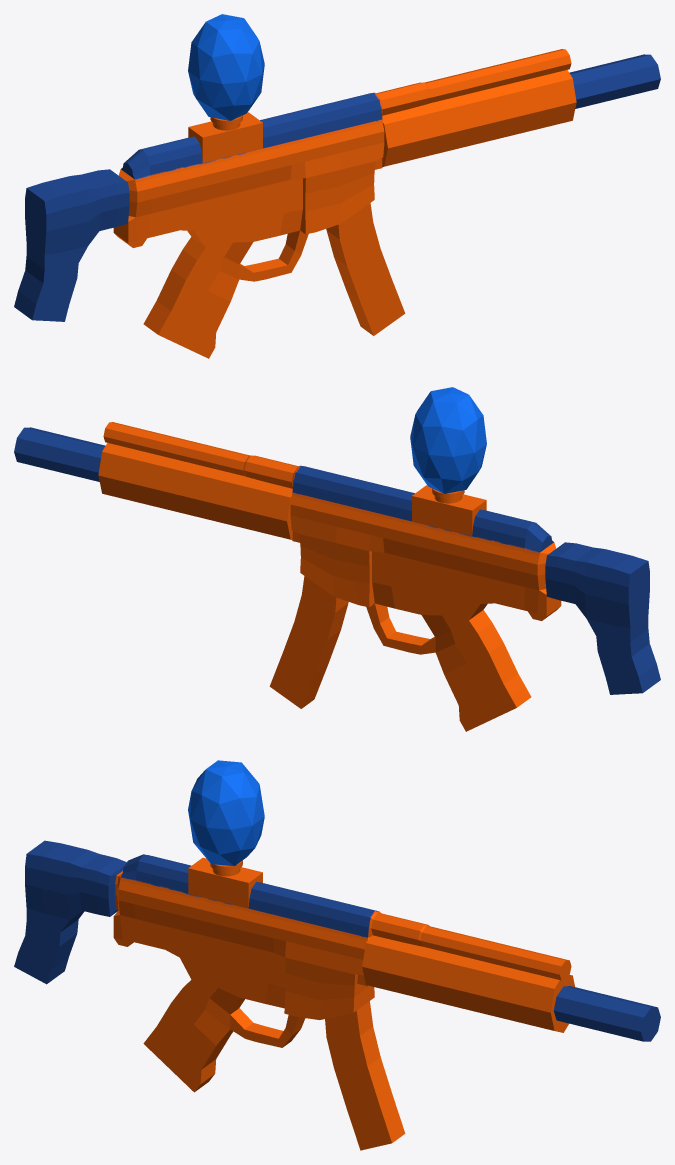
3 views of the same model, one above another, from view 1: azimuth 30°, elevation 25°; view 2: azimuth 150°, elevation 25°; view 3: azimuth 330°, elevation 25° (orthographic).
Parts seen in each view (by area): view 1: MP5, Icosphere; view 2: MP5, Icosphere; view 3: MP5, Icosphere.
Part boxes in pixels (x1,y1,x2,y2): MP5: [14, 49, 660, 358]; Icosphere: [188, 14, 264, 120]; MP5: [14, 422, 660, 731]; Icosphere: [410, 387, 486, 493]; MP5: [14, 840, 660, 1150]; Icosphere: [188, 760, 264, 866].
Bounding box in the file's own units: 399 × 209 × 43.26.
Materials: 2 (1 with a texture image).
